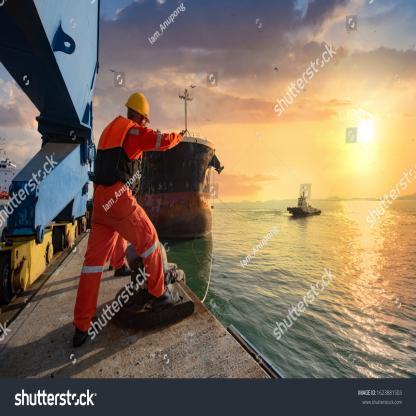bota: (71, 316, 97, 352), (152, 286, 184, 310)
capacete: (124, 88, 153, 124)
